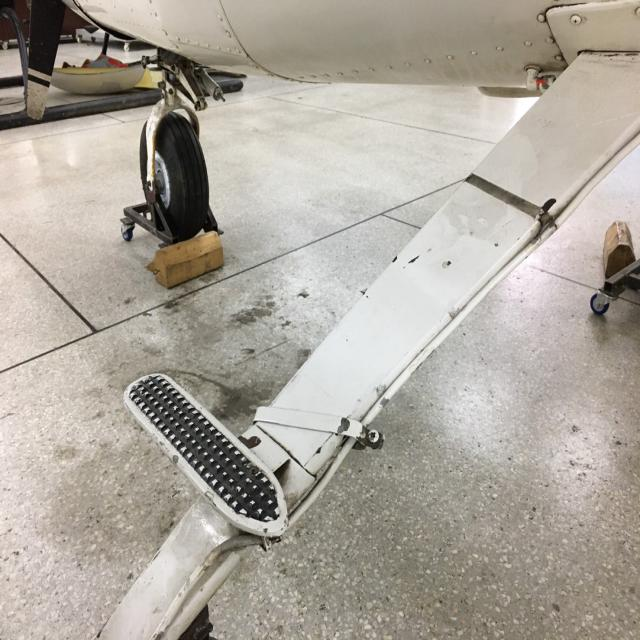Rupture: (387, 236, 456, 282)
